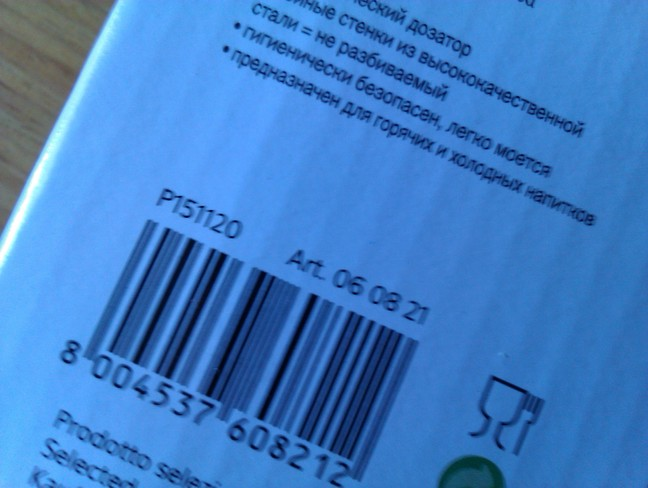barcode: (47, 212, 437, 471)
